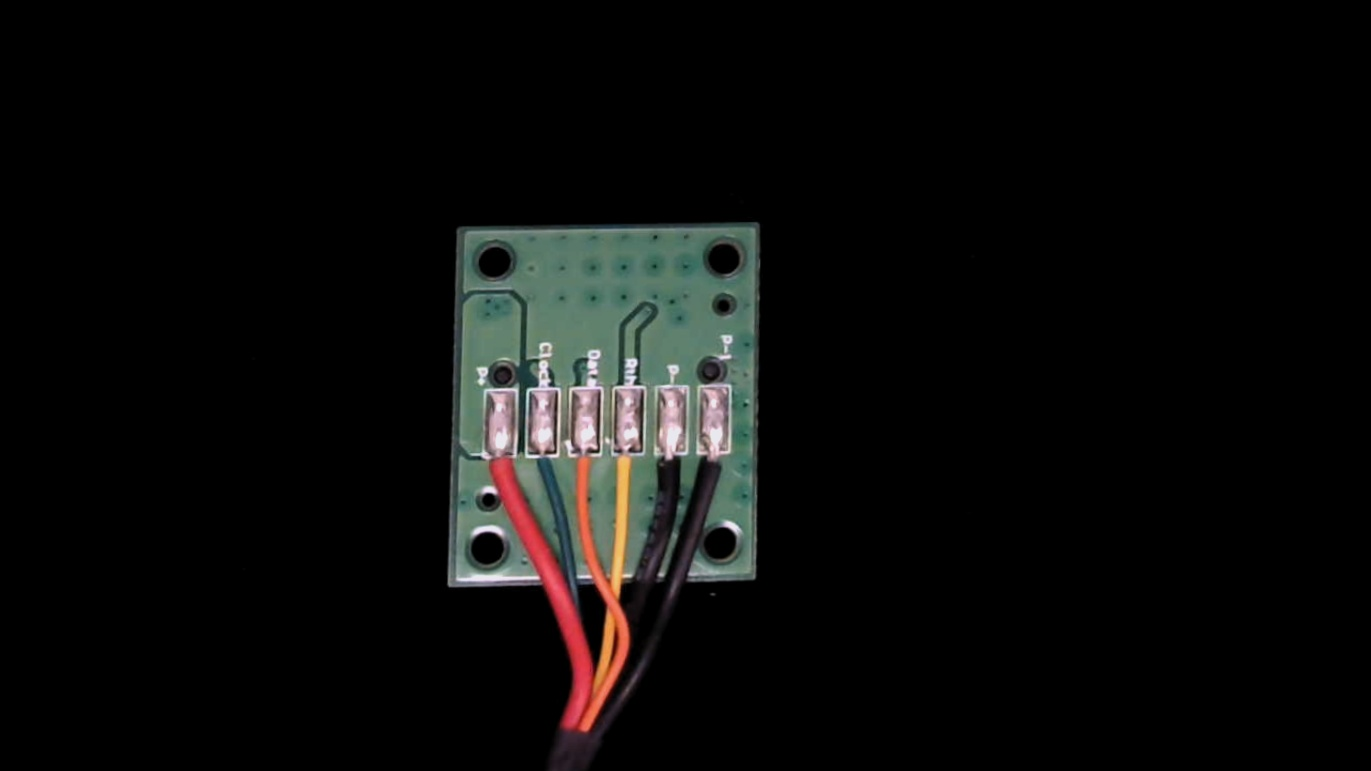Black: (650, 434, 691, 514)
Black1: (695, 435, 734, 508)
Green: (523, 433, 557, 498)
Orange: (565, 439, 602, 515)
Red: (479, 437, 520, 513)
Yellow: (606, 436, 647, 517)
